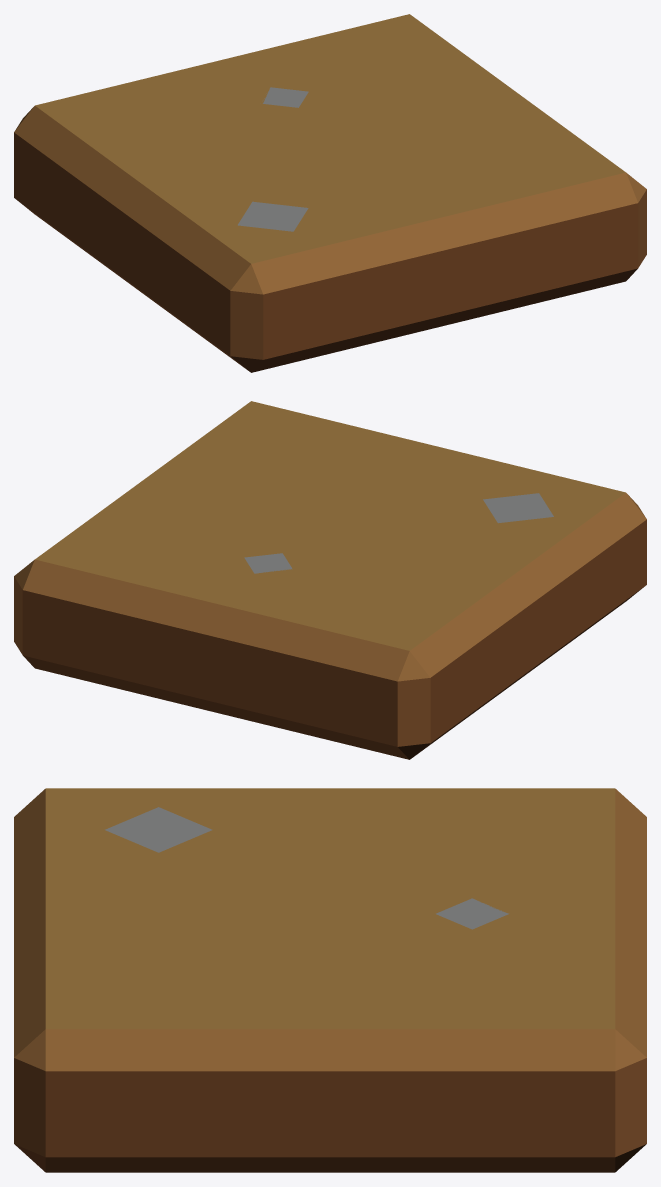
The model's file is m_kub_dirt_flatPlate.FBX.
3 renders of one model, top to bottom at view 1: azimuth 30°, elevation 25°; view 2: azimuth 150°, elevation 25°; view 3: azimuth 270°, elevation 25°, orthographic. The views are drawn at different scales.
Visible parts, largest first — view 1: m_kub_dirt_flatPlate; view 2: m_kub_dirt_flatPlate; view 3: m_kub_dirt_flatPlate.
Boxes of the visible parts, bbox=[...] form: m_kub_dirt_flatPlate: bbox=[14, 14, 646, 372]; m_kub_dirt_flatPlate: bbox=[14, 401, 646, 759]; m_kub_dirt_flatPlate: bbox=[14, 788, 646, 1172].
Bounding box in the file's own units: 2 × 0.5 × 2.
